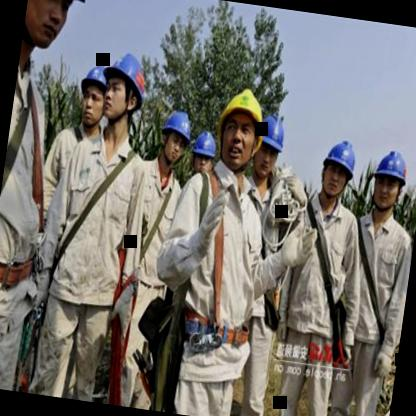helmet: (213, 83, 275, 179), (94, 44, 154, 138), (362, 142, 414, 222), (20, 0, 89, 57), (314, 132, 362, 210), (245, 107, 292, 184), (72, 56, 118, 132), (154, 105, 197, 172), (186, 127, 219, 178)
